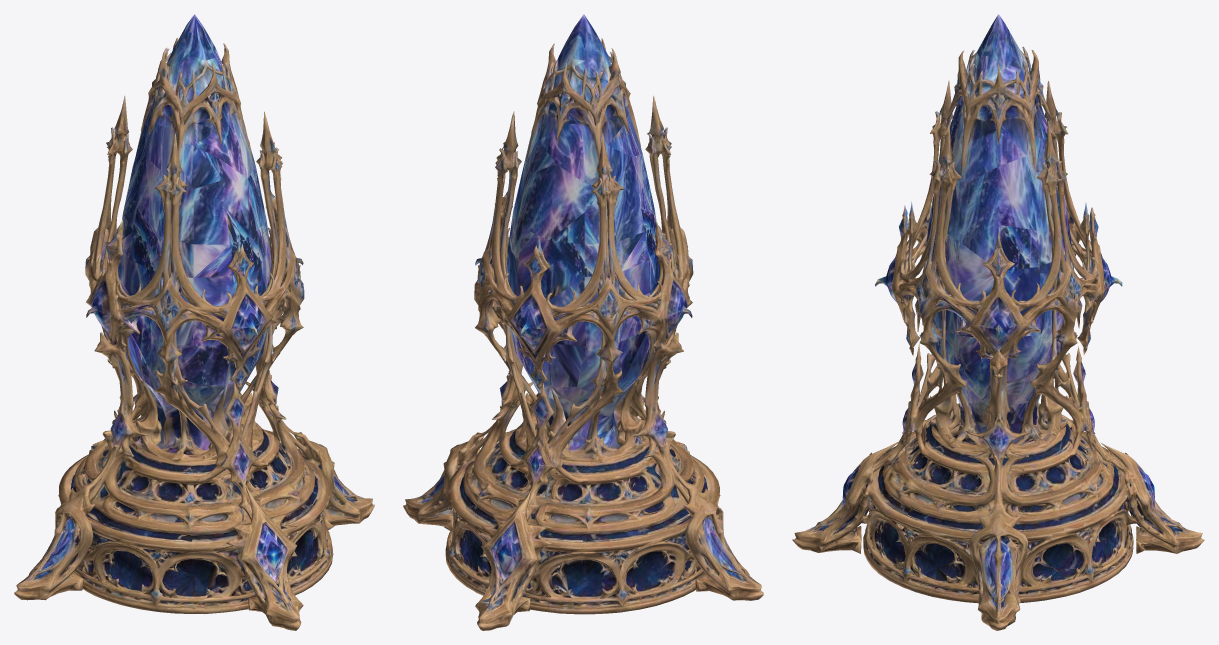
File: Celestial_Prism_Reliq.glb
The picture shows the model from 3 angles, left to right: view 1: azimuth 30°, elevation 25°; view 2: azimuth 150°, elevation 25°; view 3: azimuth 270°, elevation 25°; orthographic projection.
Parts seen in each view (by area): view 1: Celestial_Prism_Reliq; view 2: Celestial_Prism_Reliq; view 3: Celestial_Prism_Reliq.
Boxes of the visible parts, x1,y1,x2,y2 form: Celestial_Prism_Reliq: (14, 14, 374, 630); Celestial_Prism_Reliq: (403, 14, 763, 630); Celestial_Prism_Reliq: (792, 14, 1204, 630).
Bounding box in the file's own units: 1.32 × 1.9 × 1.33.
1 material, 1 textured.
